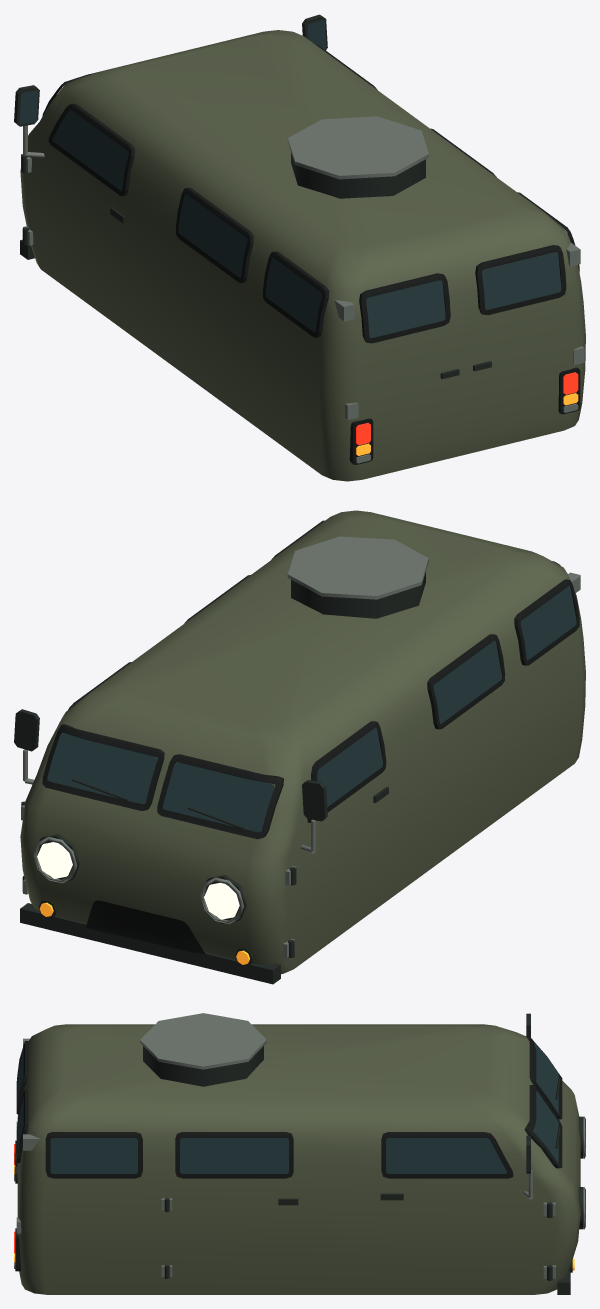
3 views of the same model, one above another, from view 1: azimuth 30°, elevation 25°; view 2: azimuth 150°, elevation 25°; view 3: azimuth 270°, elevation 25° (orthographic). The views are drawn at different scales.
Parts seen in each view (by area): view 1: B01_surface_00, B01_surface_04, B01_surface_03, B01_surface_05, B01_surface_01, B01_surface_02, B01_surface_08; view 2: B01_surface_00, B01_surface_04, B01_surface_03, B01_surface_01, B01_surface_05, B01_surface_06; view 3: B01_surface_00, B01_surface_04, B01_surface_03, B01_surface_05, B01_surface_01.
Boxes of the visible parts, <box> form: B01_surface_00: <box>20,30,585,481</box>; B01_surface_04: <box>53,109,561,337</box>; B01_surface_03: <box>42,44,580,464</box>; B01_surface_05: <box>21,116,584,463</box>; B01_surface_01: <box>14,14,491,379</box>; B01_surface_02: <box>19,19,326,124</box>; B01_surface_08: <box>356,372,578,445</box>; B01_surface_00: <box>20,510,585,974</box>; B01_surface_04: <box>47,586,576,832</box>; B01_surface_03: <box>42,520,579,955</box>; B01_surface_01: <box>14,572,425,984</box>; B01_surface_05: <box>21,536,580,957</box>; B01_surface_06: <box>37,842,239,919</box>; B01_surface_00: <box>17,1024,580,1294</box>; B01_surface_04: <box>17,1042,558,1173</box>; B01_surface_03: <box>15,1036,562,1271</box>; B01_surface_05: <box>14,1013,585,1278</box>; B01_surface_01: <box>14,1013,583,1294</box>.
Bounding box in the file's own units: 2.31 × 1.65 × 4.24.
